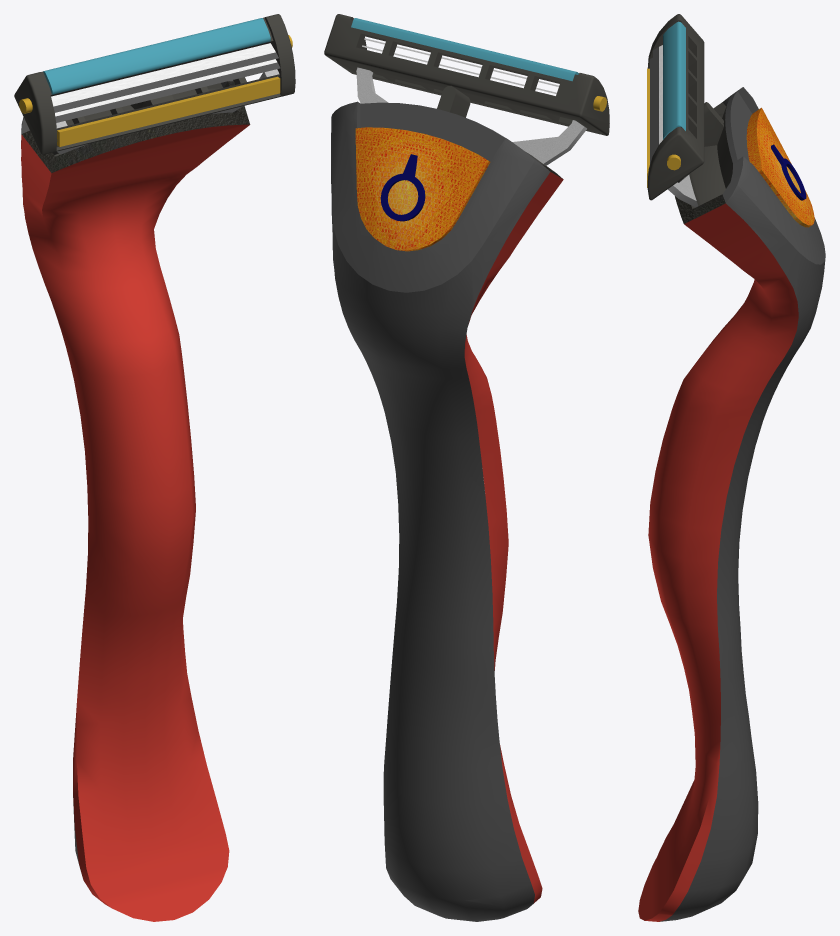
3 renders of one model, left to right at view 1: azimuth 30°, elevation 25°; view 2: azimuth 150°, elevation 25°; view 3: azimuth 270°, elevation 25°, orthographic. The views are drawn at different scales.
Parts seen in each view (by area): view 1: Component#7; view 2: Component#7; view 3: Component#7.
Part boxes in pixels (x1,y1,x2,y2): Component#7: (14, 14, 295, 921); Component#7: (324, 14, 609, 921); Component#7: (638, 14, 825, 921).
Size of the model in its own units: 0.0752 by 0.2323 by 0.047.
11 materials, 9 textured.
